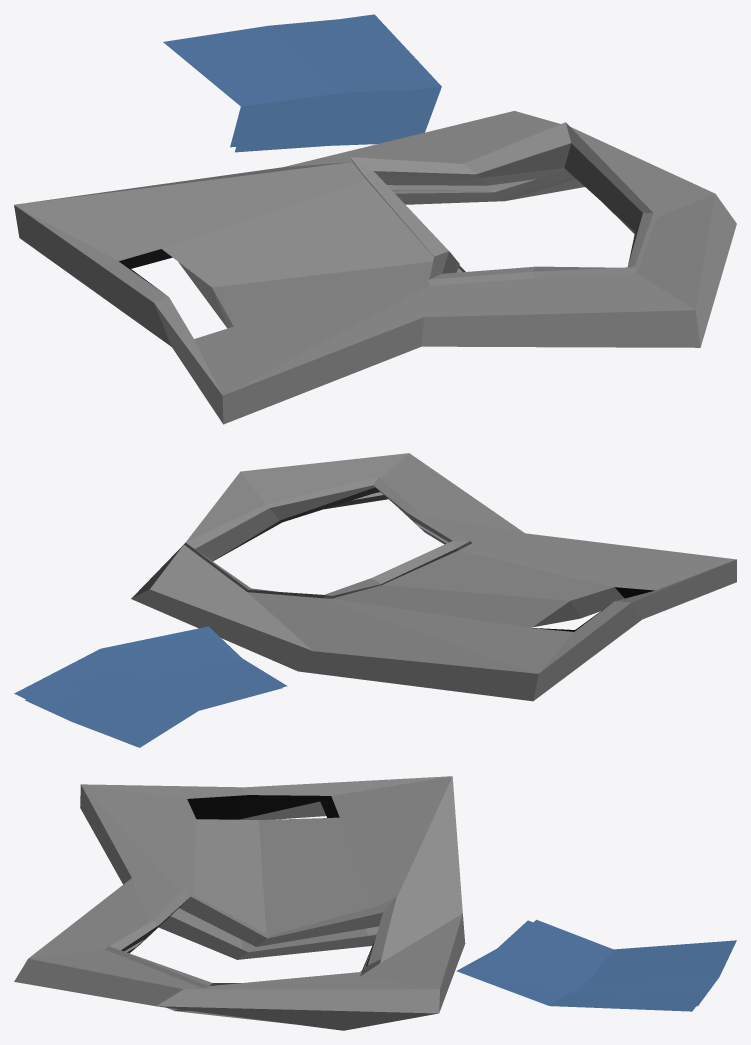
Rendered from Model_Door_Destroyed.fbx.
The picture shows the model from 3 angles, top to bottom: view 1: azimuth 30°, elevation 25°; view 2: azimuth 150°, elevation 25°; view 3: azimuth 270°, elevation 25°; orthographic projection. The views are drawn at different scales.
Visible parts, largest first — view 1: Mesh_Door_Destroyed; view 2: Mesh_Door_Destroyed; view 3: Mesh_Door_Destroyed.
Boxes of the visible parts, bbox=[...] form: Mesh_Door_Destroyed: bbox=[14, 14, 736, 424]; Mesh_Door_Destroyed: bbox=[14, 453, 736, 747]; Mesh_Door_Destroyed: bbox=[14, 776, 736, 1030].
Size of the model in its own units: 367 by 32.66 by 268.
